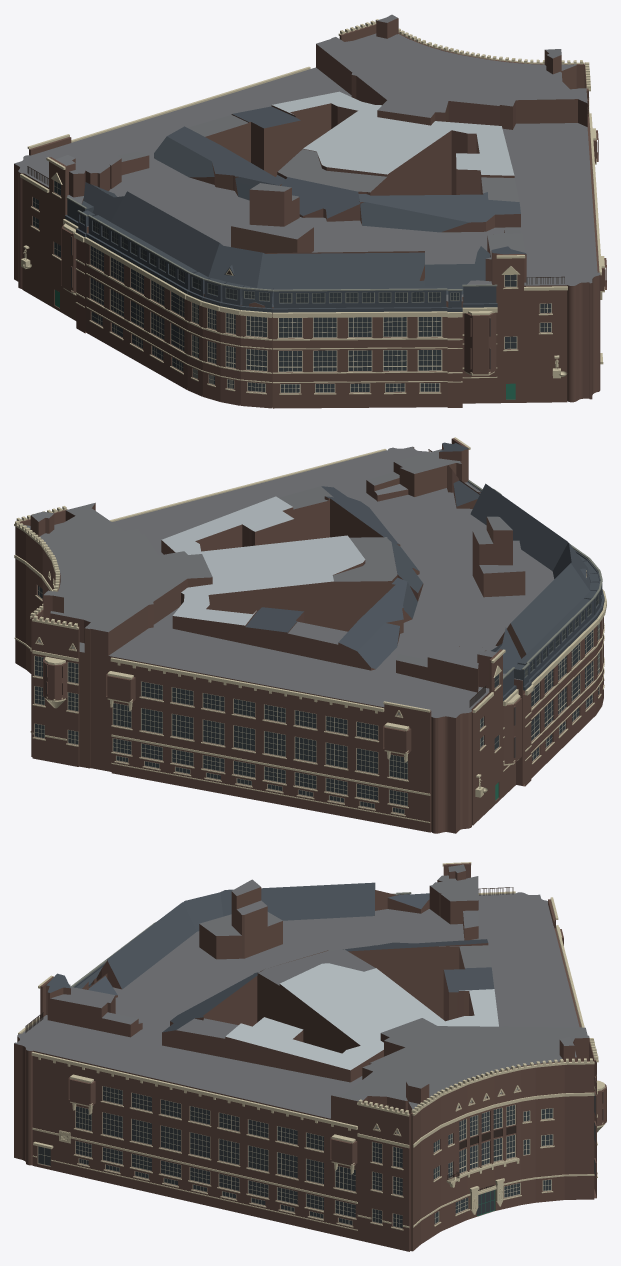
The model's file is het-sieraad.glb.
3 renders of one model, top to bottom at view 1: azimuth 30°, elevation 25°; view 2: azimuth 150°, elevation 25°; view 3: azimuth 270°, elevation 25°, orthographic.
Visible parts, largest first — view 1: het-sieraad; view 2: het-sieraad; view 3: het-sieraad.
Part boxes in pixels (x1,y1,x2,y2): het-sieraad: (14, 14, 606, 408); het-sieraad: (14, 437, 606, 833); het-sieraad: (14, 862, 606, 1251).
Bounding box in the file's own units: 73.51 × 23.69 × 73.95.
